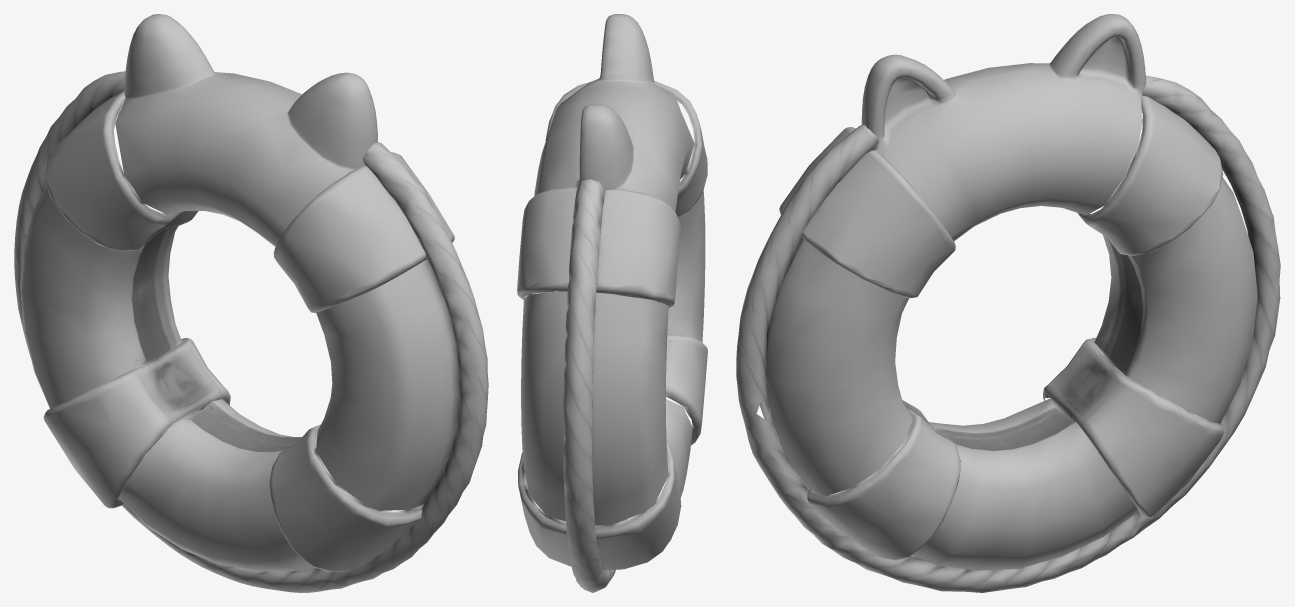
File: wall-steady-lifebuoy.glb
3 renders of one model, left to right at view 1: azimuth 30°, elevation 25°; view 2: azimuth 150°, elevation 25°; view 3: azimuth 270°, elevation 25°, orthographic. The views are drawn at different scales.
Visible parts, largest first — view 1: tripo_node_e483bb4e-eaa9-4832-93d6-56f306a261f4; view 2: tripo_node_e483bb4e-eaa9-4832-93d6-56f306a261f4; view 3: tripo_node_e483bb4e-eaa9-4832-93d6-56f306a261f4.
Part boxes in pixels (x1,y1,x2,y2): tripo_node_e483bb4e-eaa9-4832-93d6-56f306a261f4: [14, 14, 488, 592]; tripo_node_e483bb4e-eaa9-4832-93d6-56f306a261f4: [517, 14, 707, 592]; tripo_node_e483bb4e-eaa9-4832-93d6-56f306a261f4: [736, 14, 1280, 592].
Bounding box in the file's own units: 0.5183 × 0.9995 × 0.8935.
Materials: 1 (1 with a texture image).
